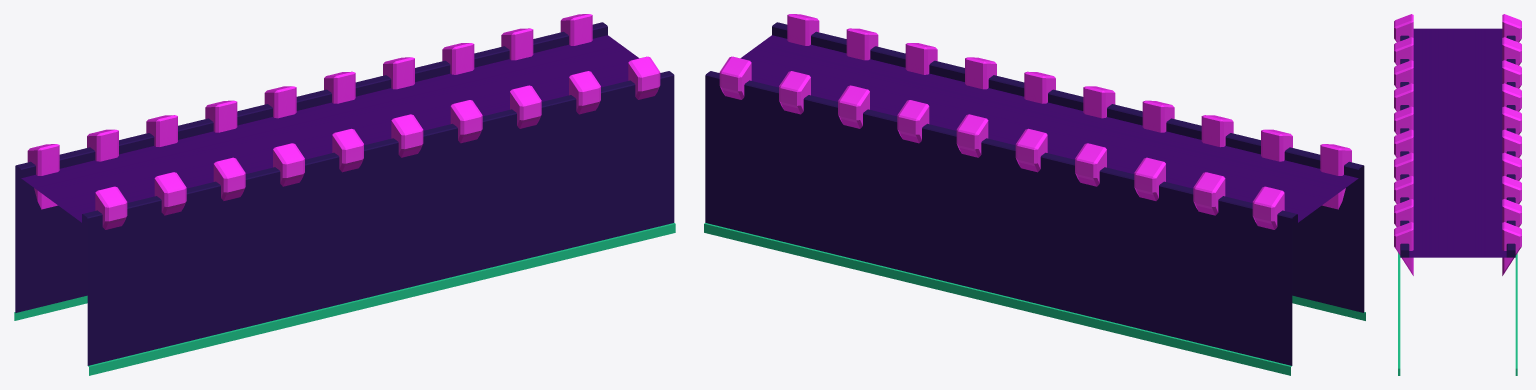
Rendered from Wall_neo.fbx.
The picture shows the model from 3 angles, left to right: view 1: azimuth 30°, elevation 25°; view 2: azimuth 150°, elevation 25°; view 3: azimuth 270°, elevation 25°; orthographic projection. The views are drawn at different scales.
Visible parts, largest first — view 1: Wall_neo; view 2: Wall_neo; view 3: Wall_neo.
Boxes of the visible parts, x1=… form: Wall_neo: x1=14, y1=14, x2=675, y2=375; Wall_neo: x1=704, y1=14, x2=1365, y2=375; Wall_neo: x1=1394, y1=14, x2=1521, y2=375.
Bounding box in the file's own units: 655 × 186 × 154.
